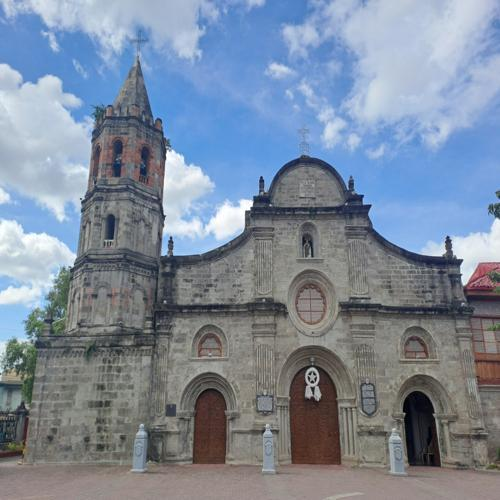Barasoain Church: (26, 26, 486, 474)
